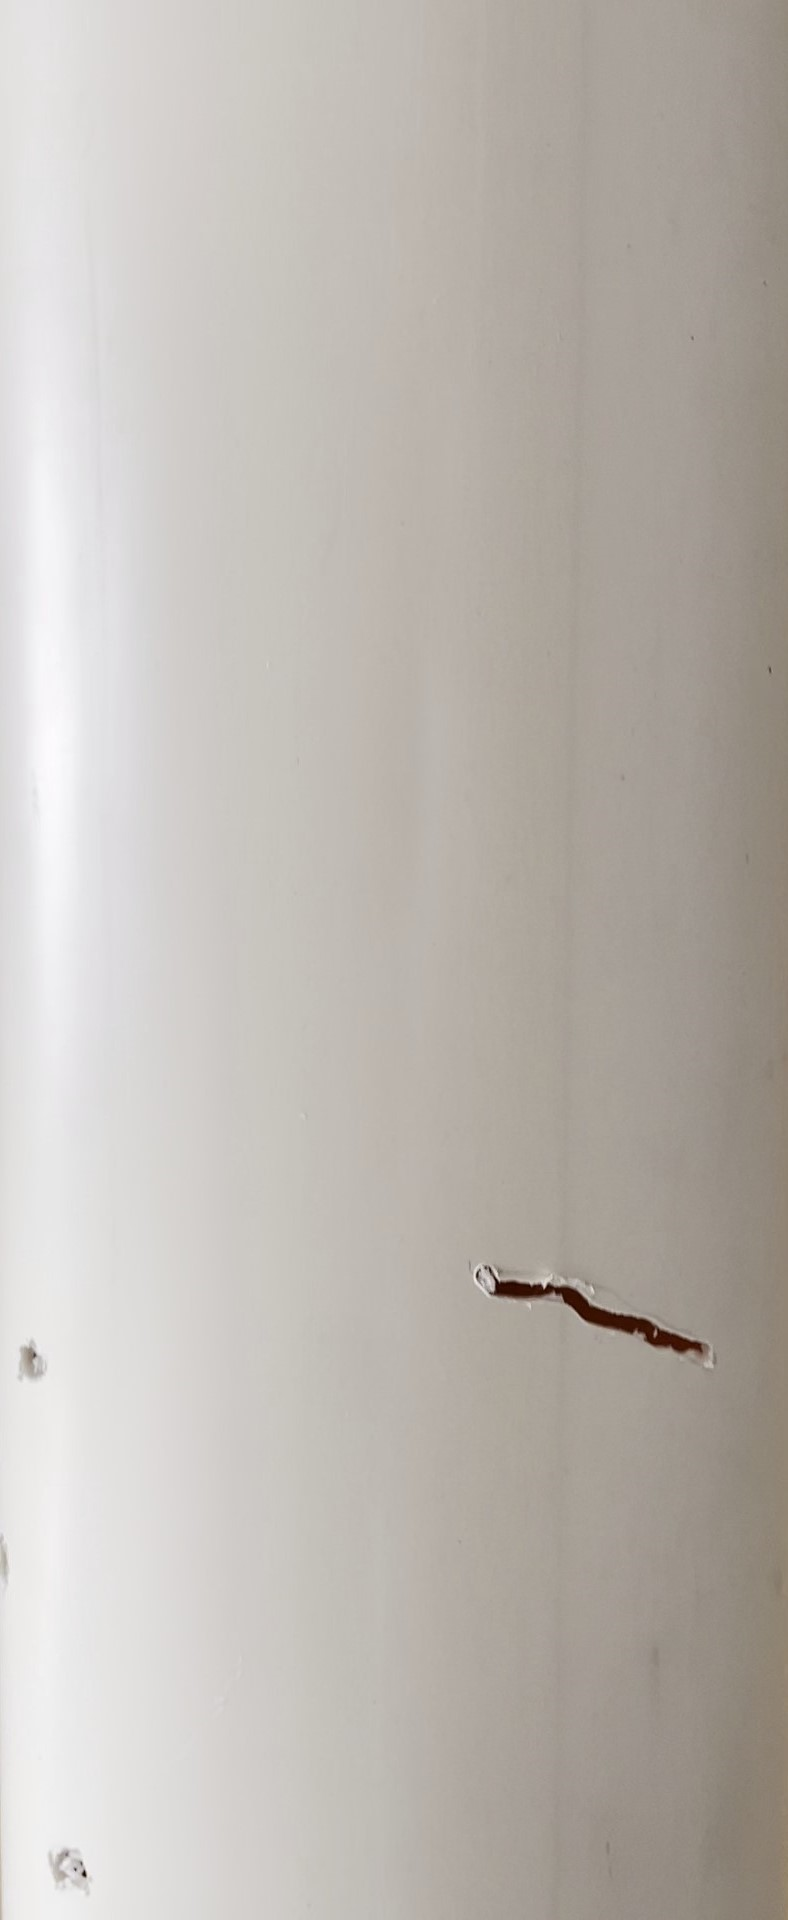fengxi: (460, 1233, 730, 1382)
kongdong: (42, 1831, 106, 1892), (12, 1331, 55, 1390)
